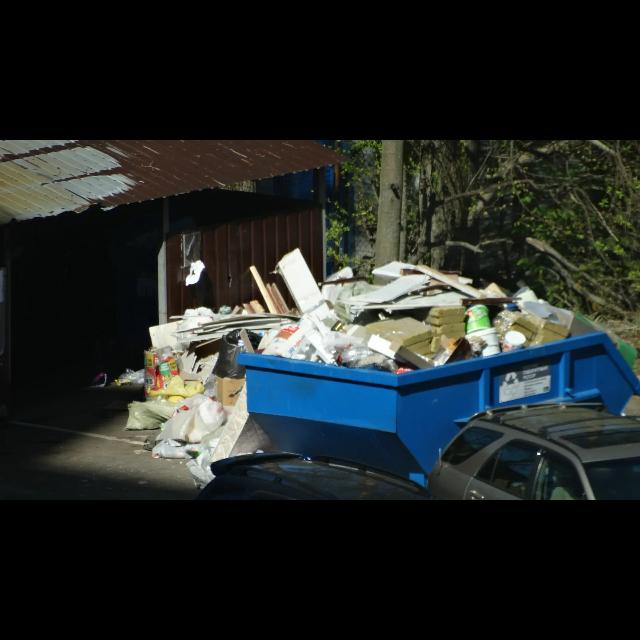Trash_Can_Full: (237, 260, 640, 484)
